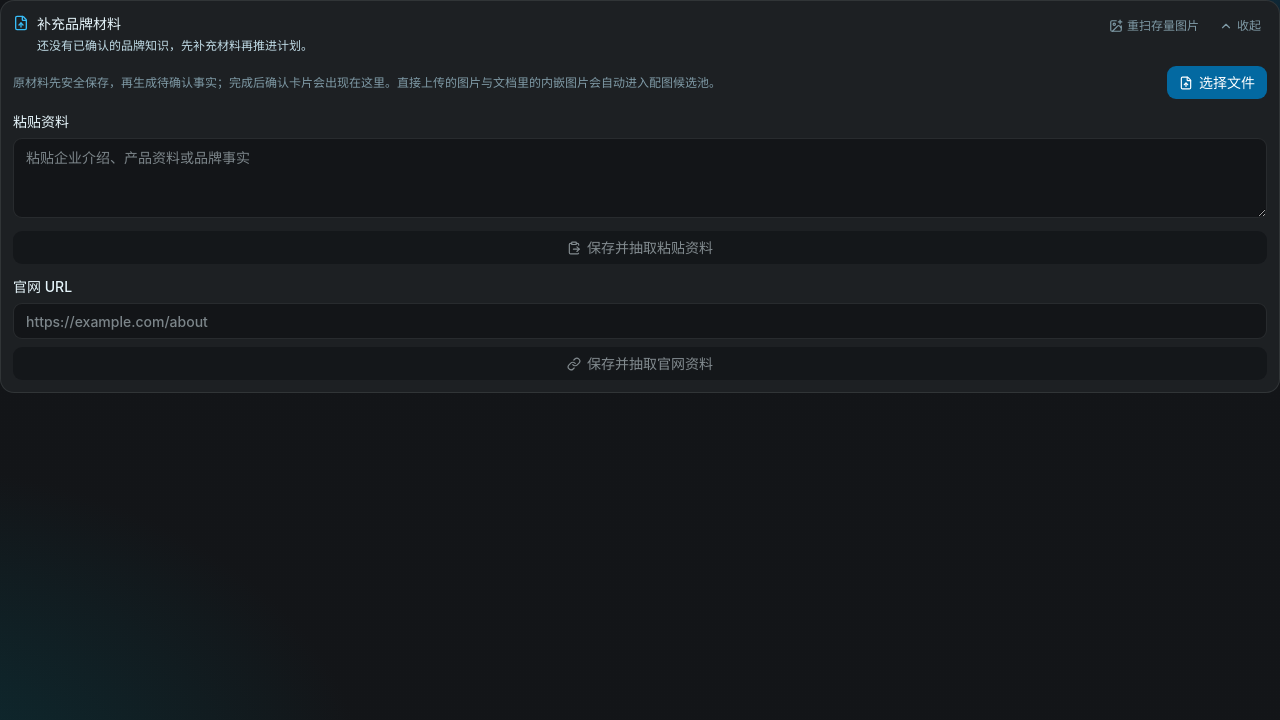
Test: MaterialRequestCard › removes one material with its pending candidates from the card
Click the button "选择文件": (1217, 82) [1167, 66, 1267, 99]
Wait 3000 ms
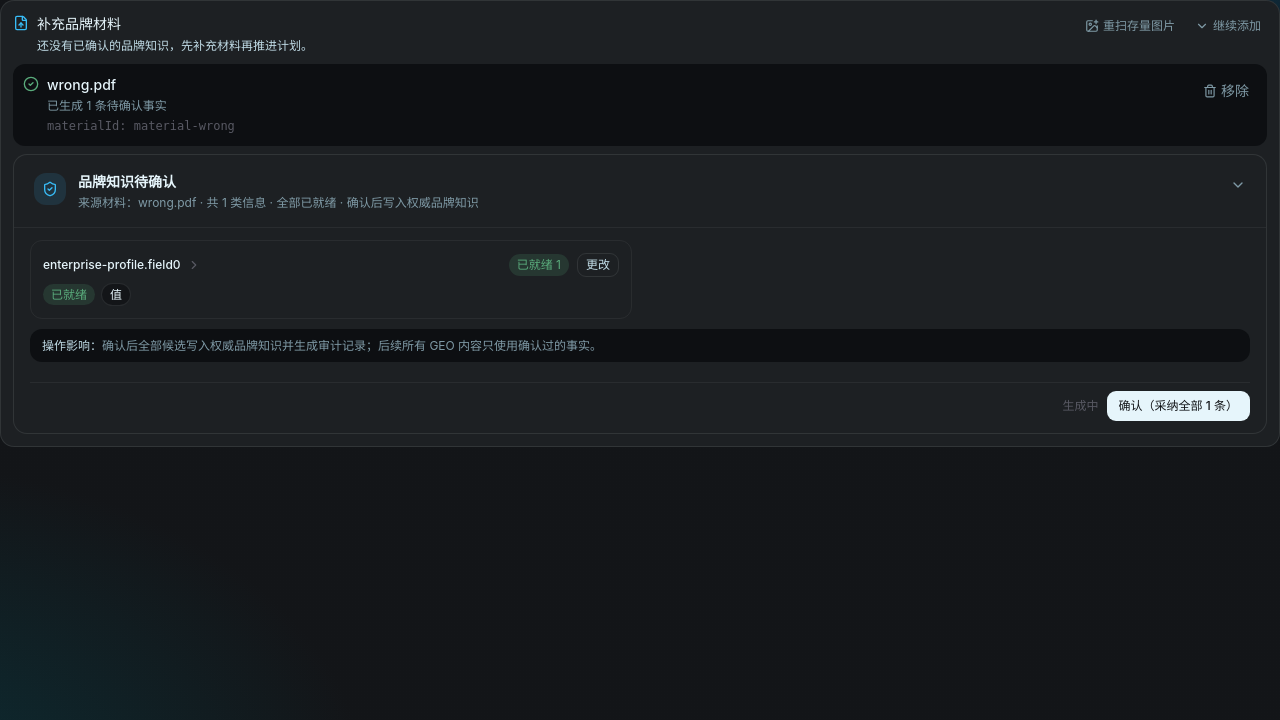
Click the button with aria-label "移除 wrong.pdf": (1226, 90) [1195, 74, 1257, 107]
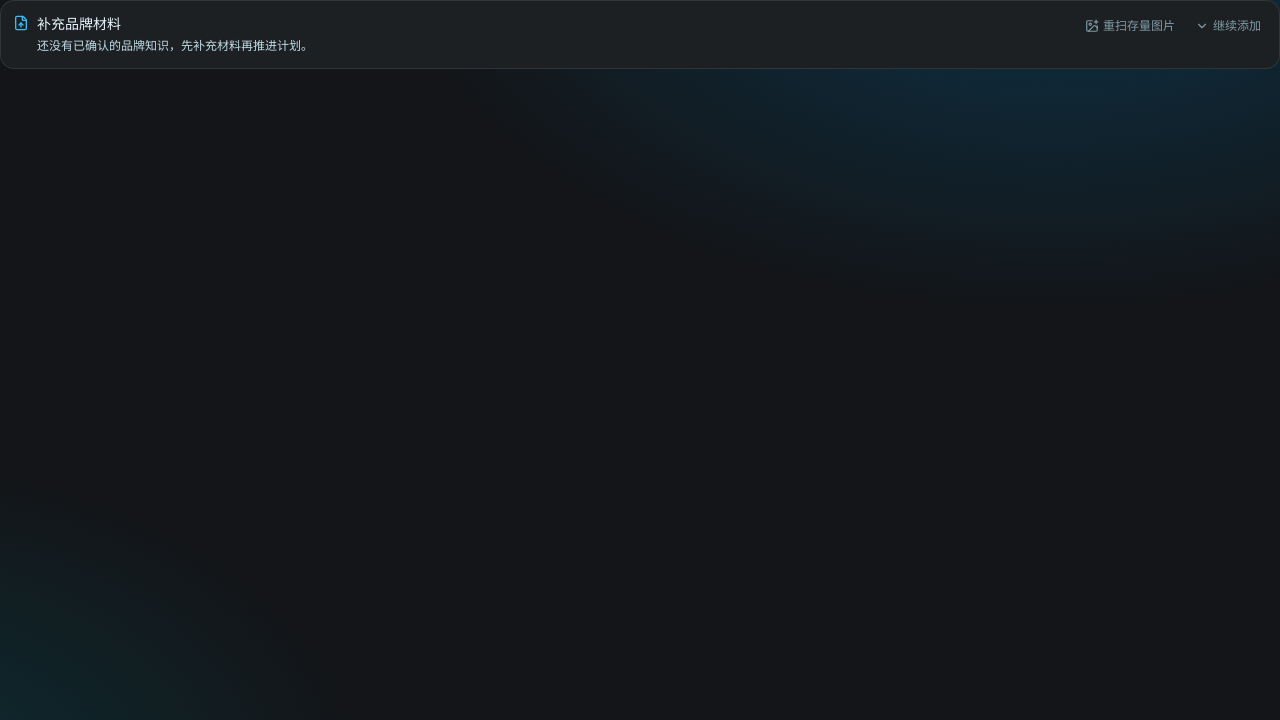
Now the element "材料处理结果" is gone
Now the element "待确认知识候选" is gone
